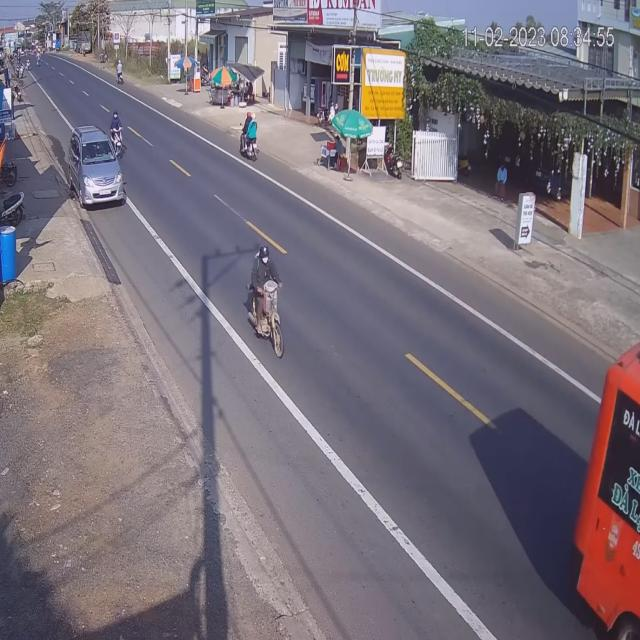bus: (572, 315, 638, 636)
car: (68, 127, 125, 208)
motorbike: (248, 248, 285, 362), (240, 113, 259, 165), (109, 112, 123, 156)
